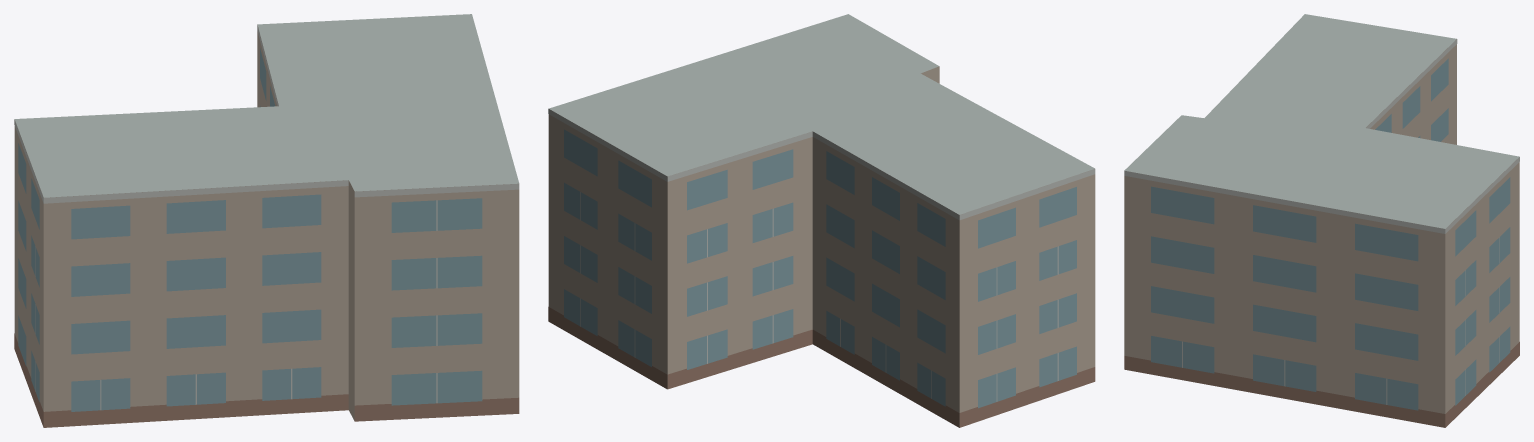
File: survey-upis-32586675.glb
The picture shows the model from 3 angles, left to right: view 1: azimuth 30°, elevation 25°; view 2: azimuth 150°, elevation 25°; view 3: azimuth 270°, elevation 25°; orthographic projection. The views are drawn at different scales.
Visible parts, largest first — view 1: survey-upis-32586675.tmp; view 2: survey-upis-32586675.tmp; view 3: survey-upis-32586675.tmp.
Boxes of the visible parts, bbox=[...] form: survey-upis-32586675.tmp: bbox=[14, 14, 519, 427]; survey-upis-32586675.tmp: bbox=[548, 14, 1095, 427]; survey-upis-32586675.tmp: bbox=[1124, 14, 1519, 427].
Size of the model in its own units: 22.03 by 9.5 by 17.13.
